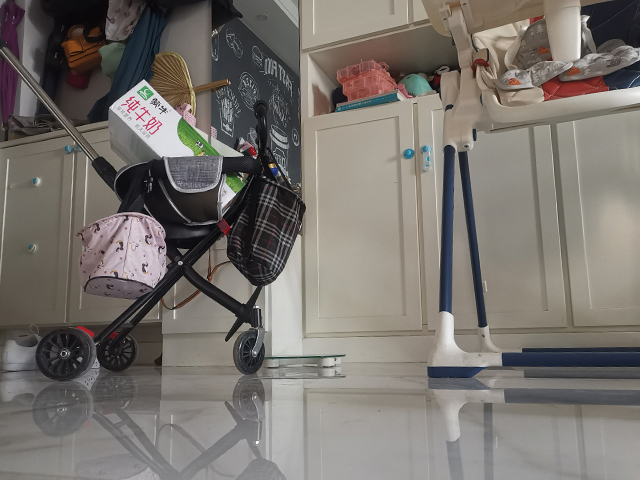cabinet: (303, 84, 640, 369), (1, 117, 160, 364)
